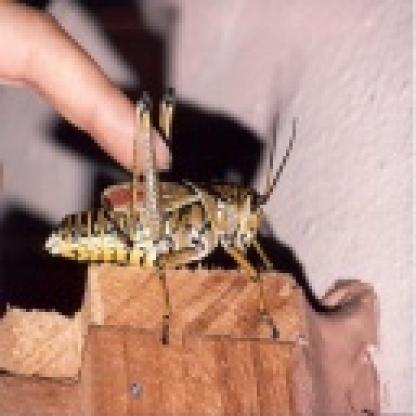grasshopper: (36, 88, 305, 334)
